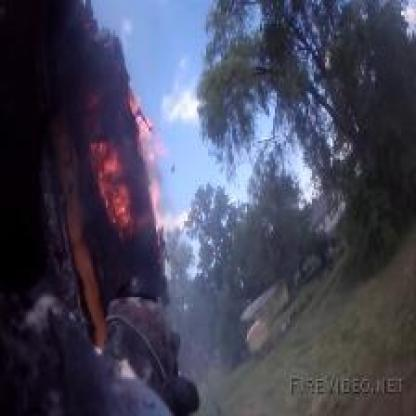fire: (126, 92, 172, 218), (81, 132, 133, 230)
